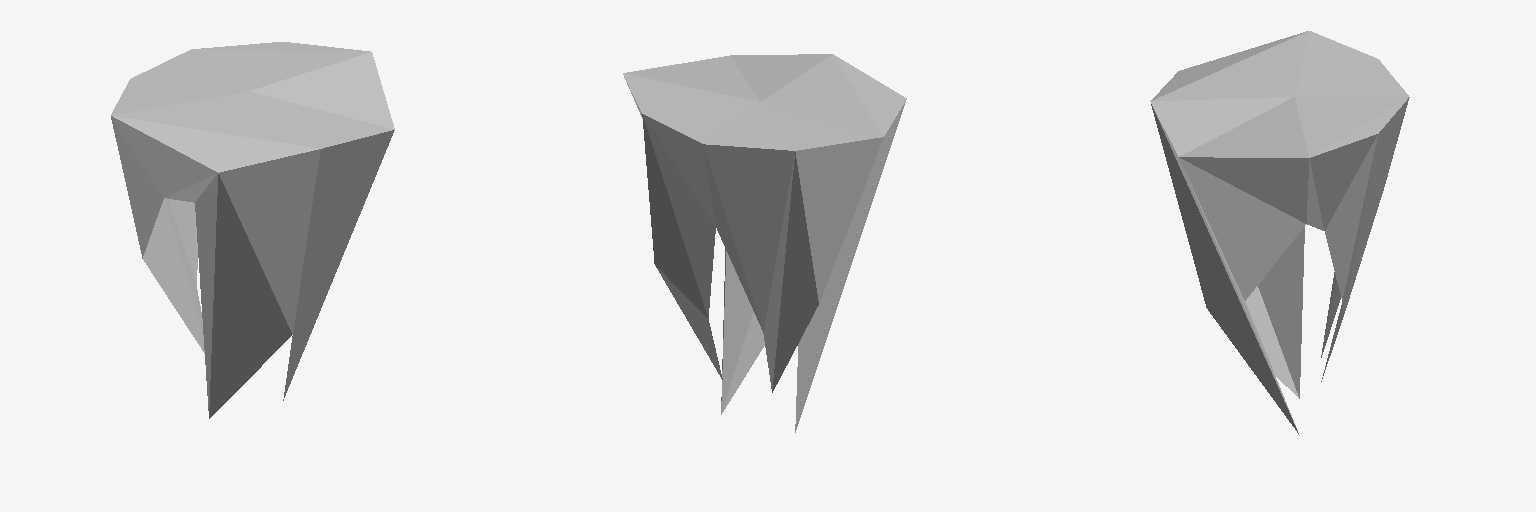
The model's file is stone001.obj.
3 views of the same model, side by side, from view 1: azimuth 30°, elevation 25°; view 2: azimuth 150°, elevation 25°; view 3: azimuth 270°, elevation 25° (orthographic).
Parts seen in each view (by area): view 1: Landscape.003; view 2: Landscape.003; view 3: Landscape.003.
Part boxes in pixels (x1,y1,x2,y2): Landscape.003: (111,42,394,418); Landscape.003: (623,54,906,432); Landscape.003: (1150,31,1409,433).
Bounding box in the file's own units: 0.4885 × 0.5774 × 0.4199.